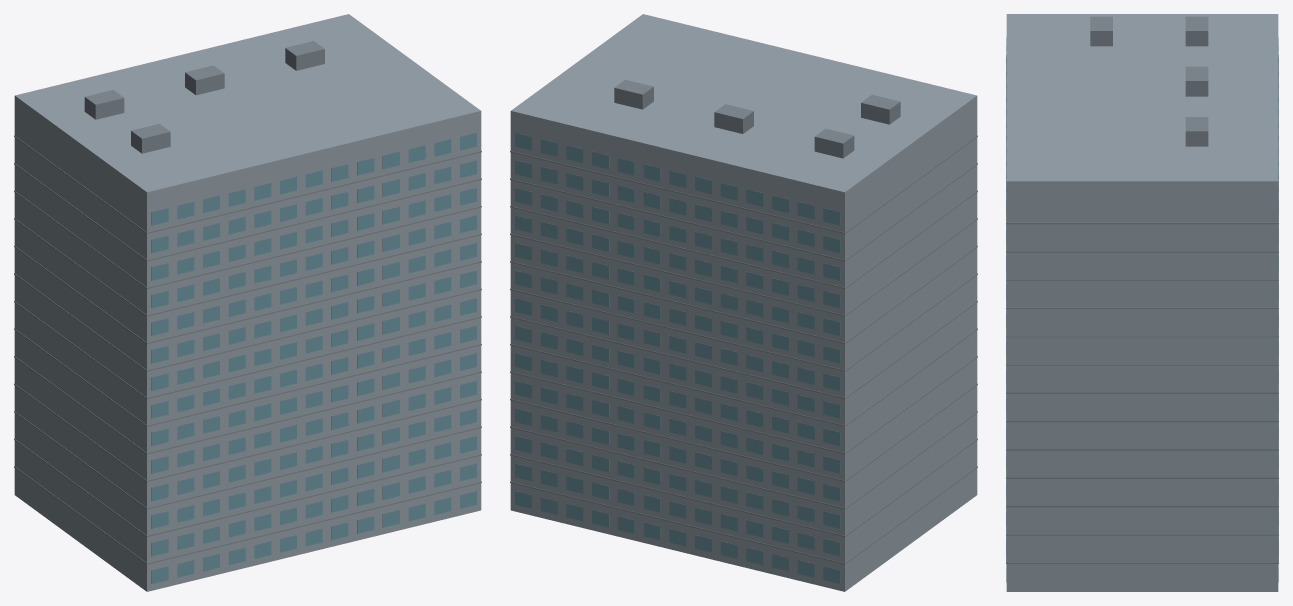
The model's file is source.glb.
3 views of the same model, side by side, from view 1: azimuth 30°, elevation 25°; view 2: azimuth 150°, elevation 25°; view 3: azimuth 270°, elevation 25° (orthographic). The views are drawn at different scales.
Parts seen in each view (by area): view 1: worldgen; view 2: worldgen; view 3: worldgen.
Boxes of the visible parts, bbox=[...] form: worldgen: bbox=[14, 14, 481, 591]; worldgen: bbox=[510, 14, 977, 591]; worldgen: bbox=[1006, 14, 1278, 591].
Bounding box in the file's own units: 70.2 × 83 × 48.2.
